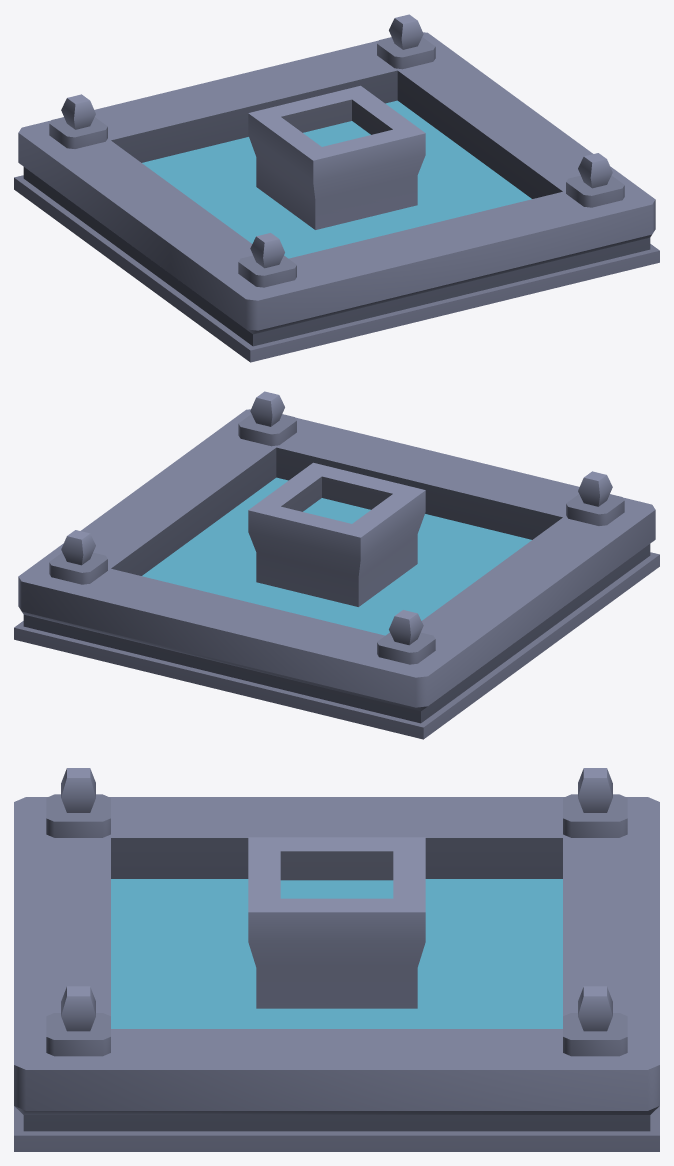
File: fountain-square-detail.glb
The picture shows the model from 3 angles, top to bottom: view 1: azimuth 30°, elevation 25°; view 2: azimuth 150°, elevation 25°; view 3: azimuth 270°, elevation 25°; orthographic projection. The views are drawn at different scales.
Parts seen in each view (by area): view 1: fountain-square-detail; view 2: fountain-square-detail; view 3: fountain-square-detail.
Part boxes in pixels (<box>): fountain-square-detail: <box>14,14,659,362</box>; fountain-square-detail: <box>14,391,659,739</box>; fountain-square-detail: <box>14,768,659,1151</box>.
Size of the model in its own units: 2 by 0.48 by 2.
